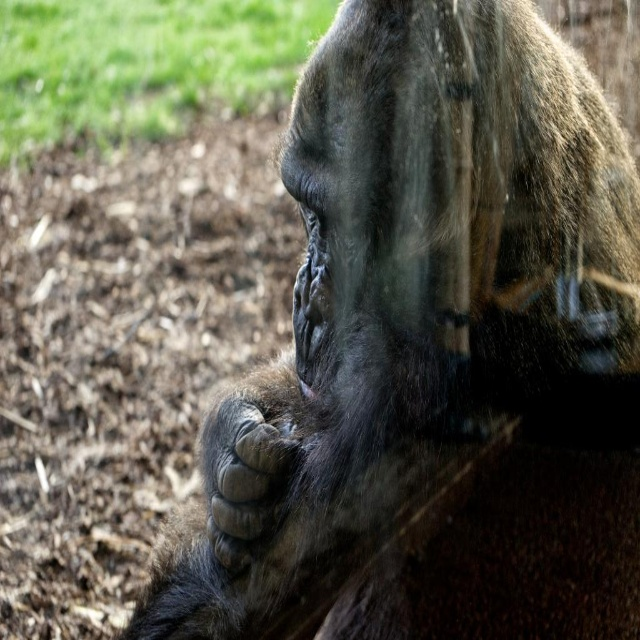Monkey: (172, 0, 602, 636)
